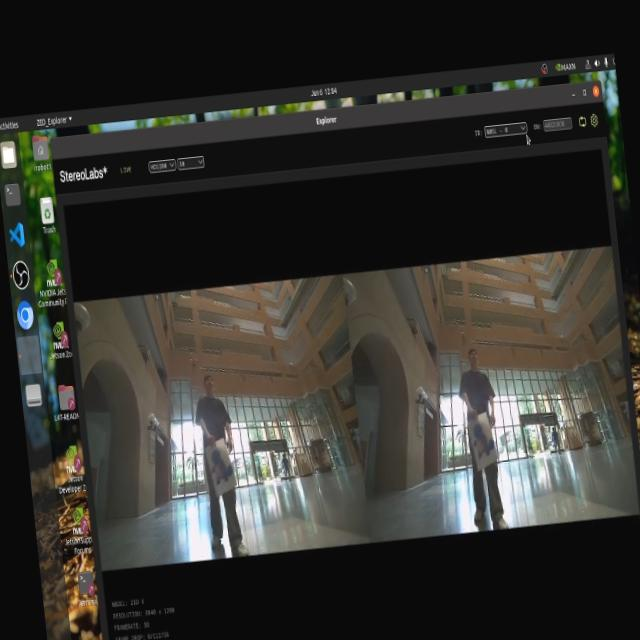blue: (210, 448, 230, 484), (471, 421, 486, 460)
